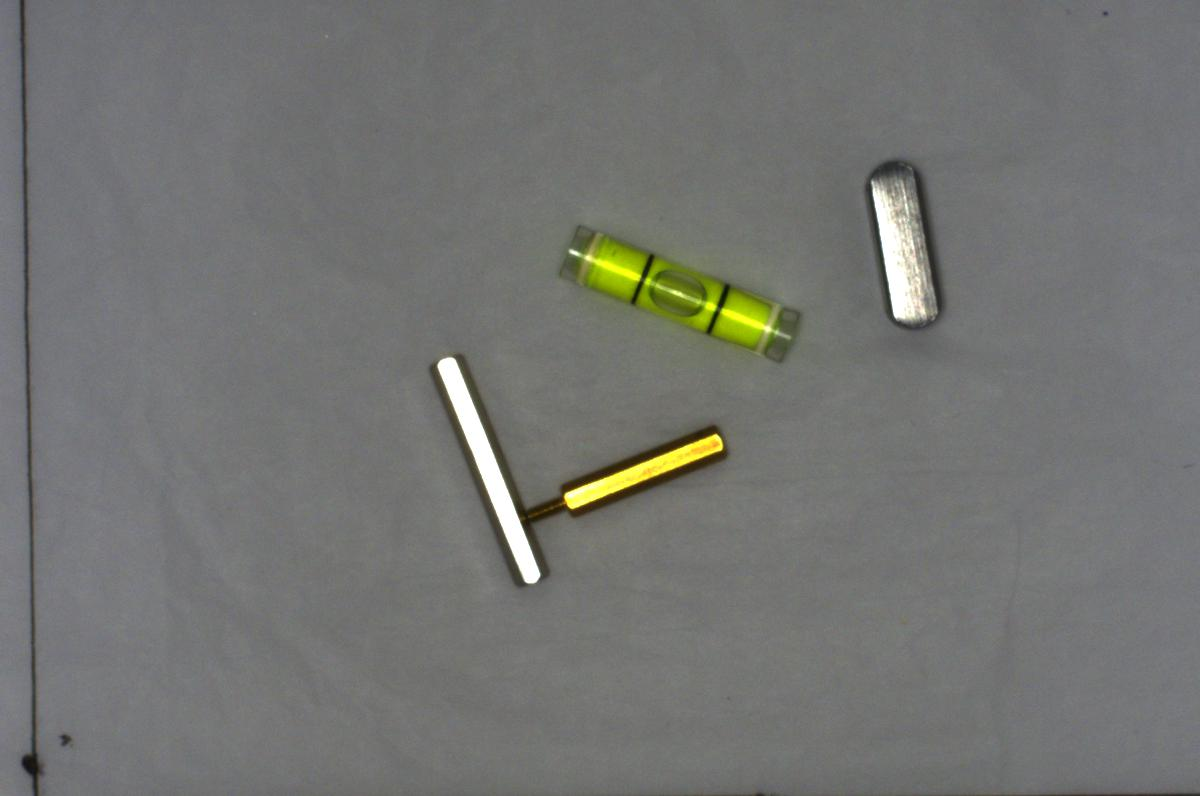Double hexagonal column: (424, 350, 550, 587)
Hexagon pillar: (524, 427, 734, 529)
Horizontal bubble: (553, 225, 800, 366)
Keybar: (860, 154, 951, 334)
